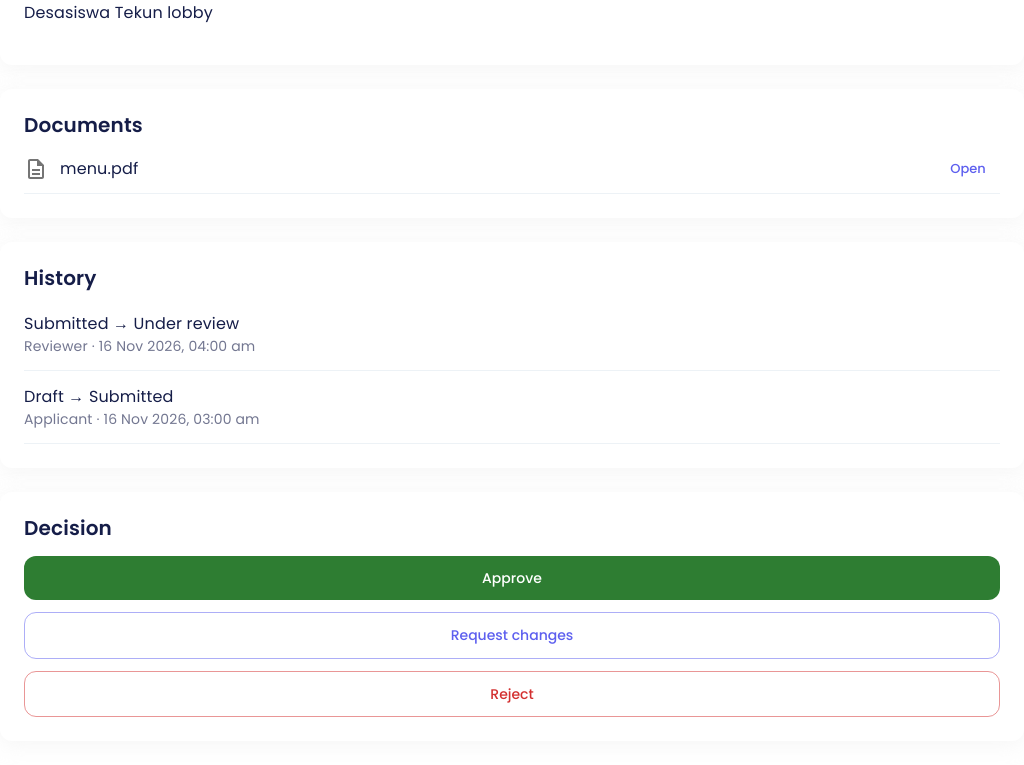
Test case: ApplicationDetailPage › rejecting needs a note too
This screenshot has width=1024, height=765.
(page scrolled)
What coordinates should you click on to do the following:
click the button "Reject"
I would click on:
 (512, 694)
Its box is [24, 671, 1000, 718].
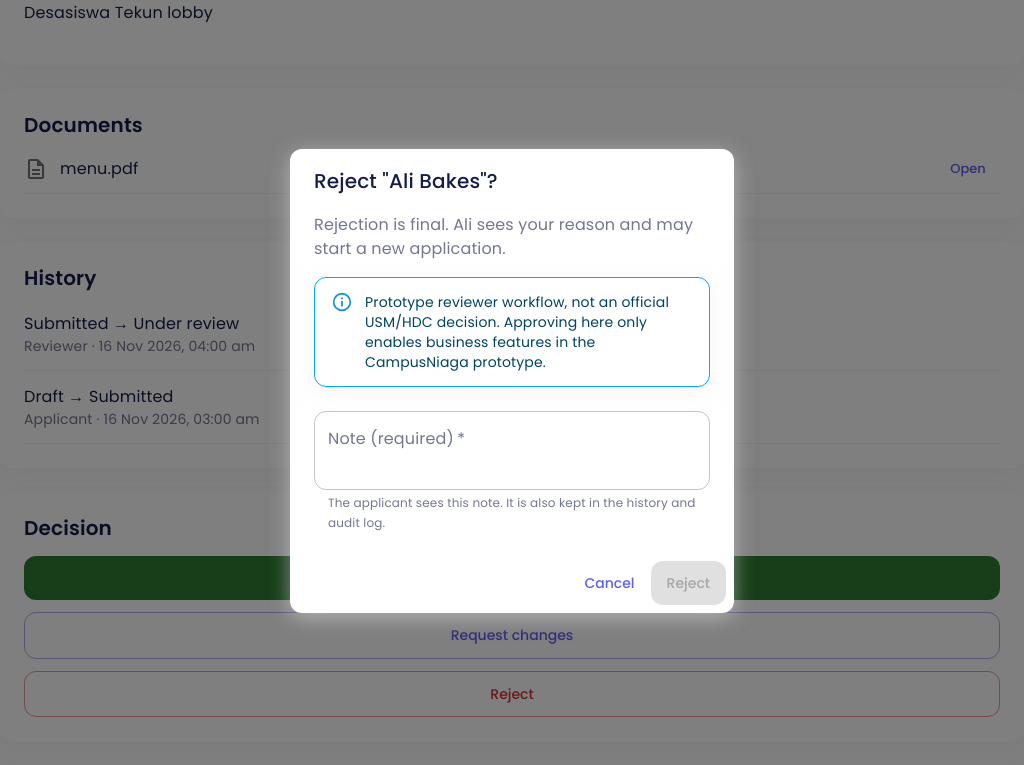
Expected: the button "Reject" is disabled, [651, 561, 726, 605]
